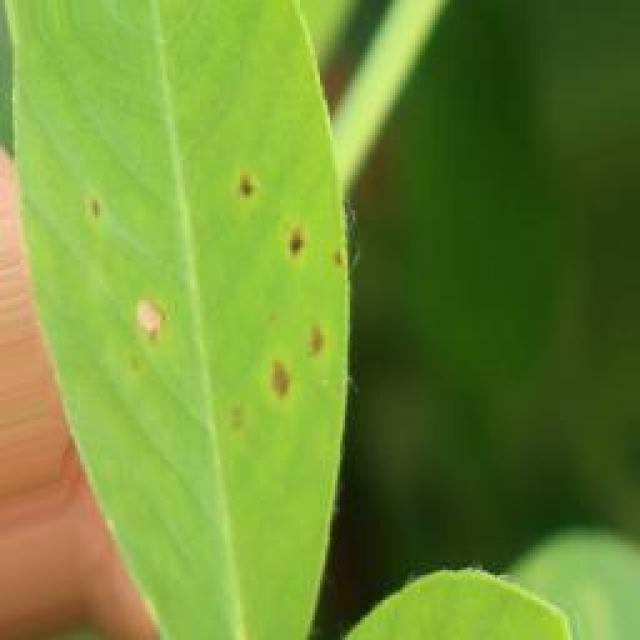Sigatoka: (225, 304, 335, 432), (117, 278, 182, 372), (220, 142, 276, 233), (324, 226, 366, 292), (74, 185, 121, 233), (271, 213, 310, 267)
